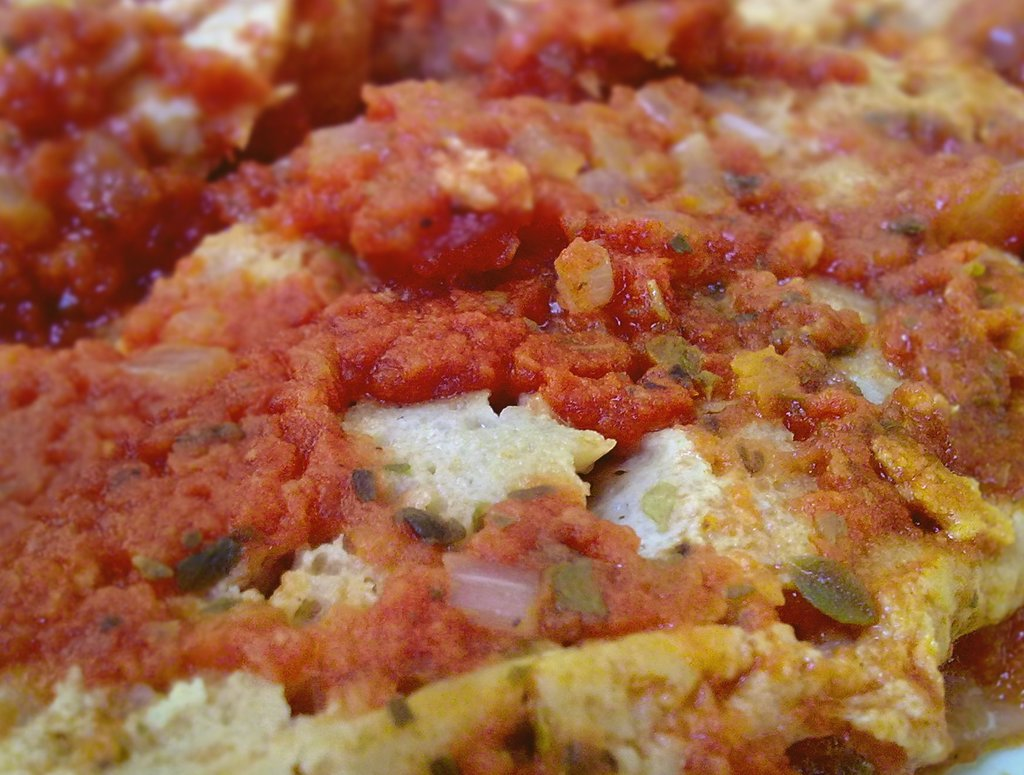Pizza: (6, 1, 1013, 775)
